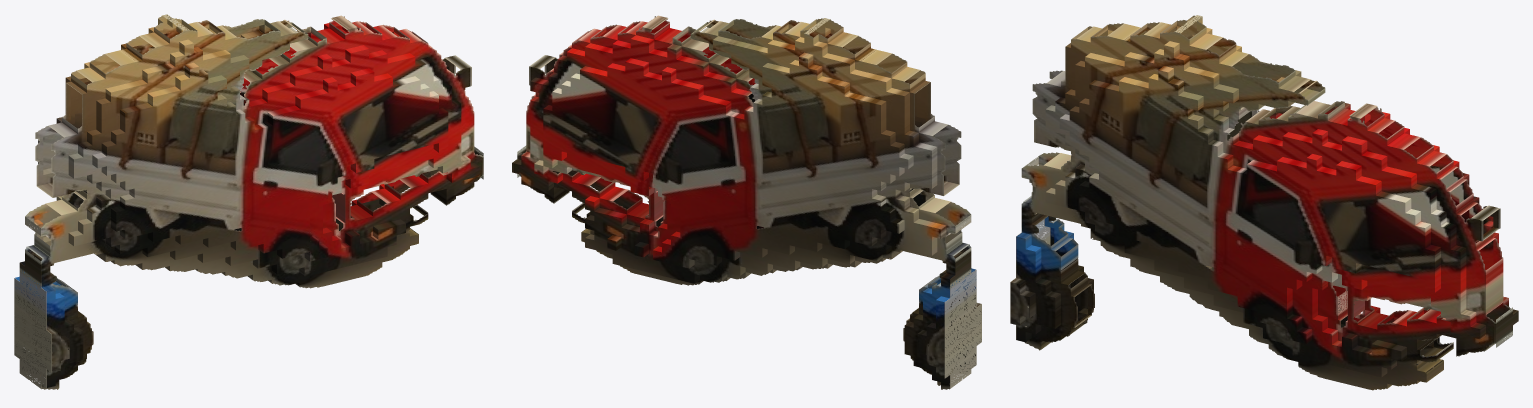
The model's file is veh_4.glb.
3 renders of one model, left to right at view 1: azimuth 30°, elevation 25°; view 2: azimuth 150°, elevation 25°; view 3: azimuth 330°, elevation 25°, orthographic. The views are drawn at different scales.
Visible parts, largest first — view 1: veh_4; view 2: veh_4; view 3: veh_4.
Boxes of the visible parts, x1,y1,x2,y2 form: veh_4: (14, 14, 483, 389); veh_4: (512, 15, 981, 389); veh_4: (1010, 15, 1518, 390).
Bounding box in the file's own units: 48 × 34 × 7.
Materials: 1 (1 with a texture image).
